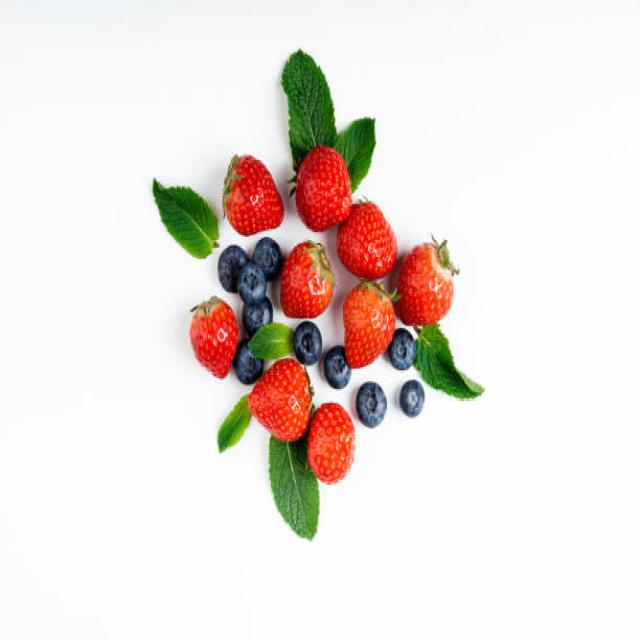Healthy Fruit: (247, 357, 311, 439), (295, 145, 353, 232), (337, 199, 397, 281), (226, 155, 285, 236), (396, 245, 454, 325), (280, 239, 332, 319), (345, 283, 395, 366), (307, 402, 354, 482)
